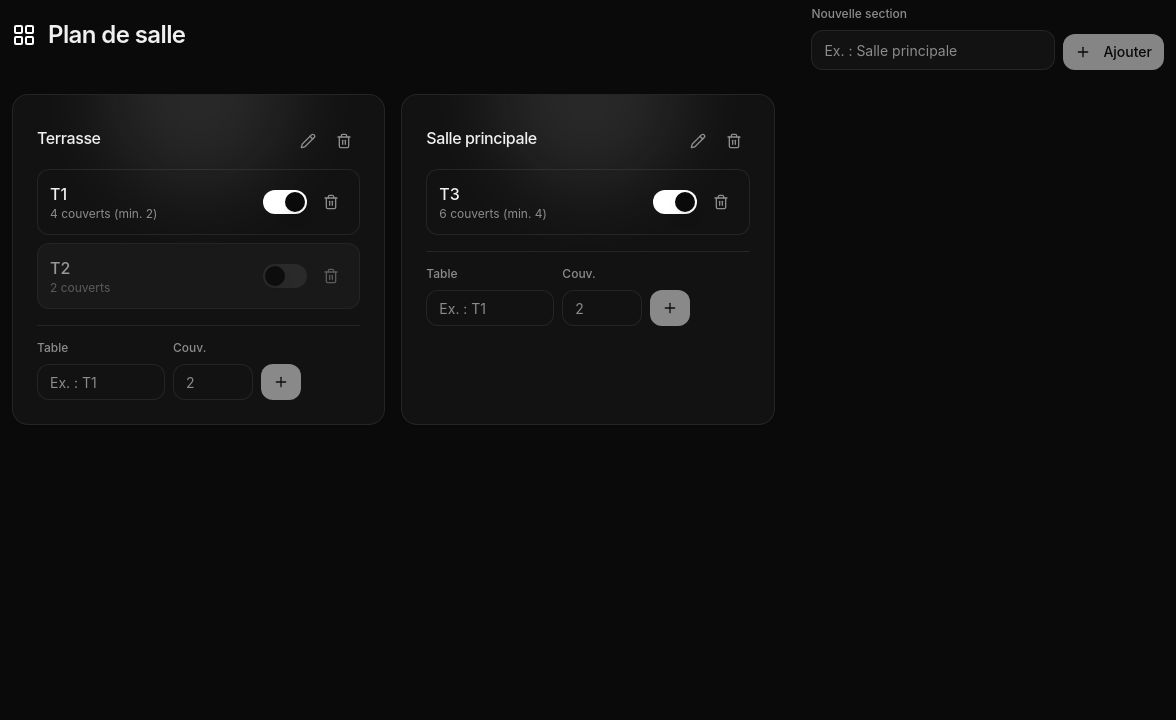
FloorPlanCrud › affiche une erreur si la création de section échoue
The image size is (1176, 720).
Check: the heading "Plan de salle" is shown, box [48, 19, 185, 51]
Type "Nouveau" into the field labelled "Nouvelle section" at (933, 50), box [811, 30, 1055, 70]
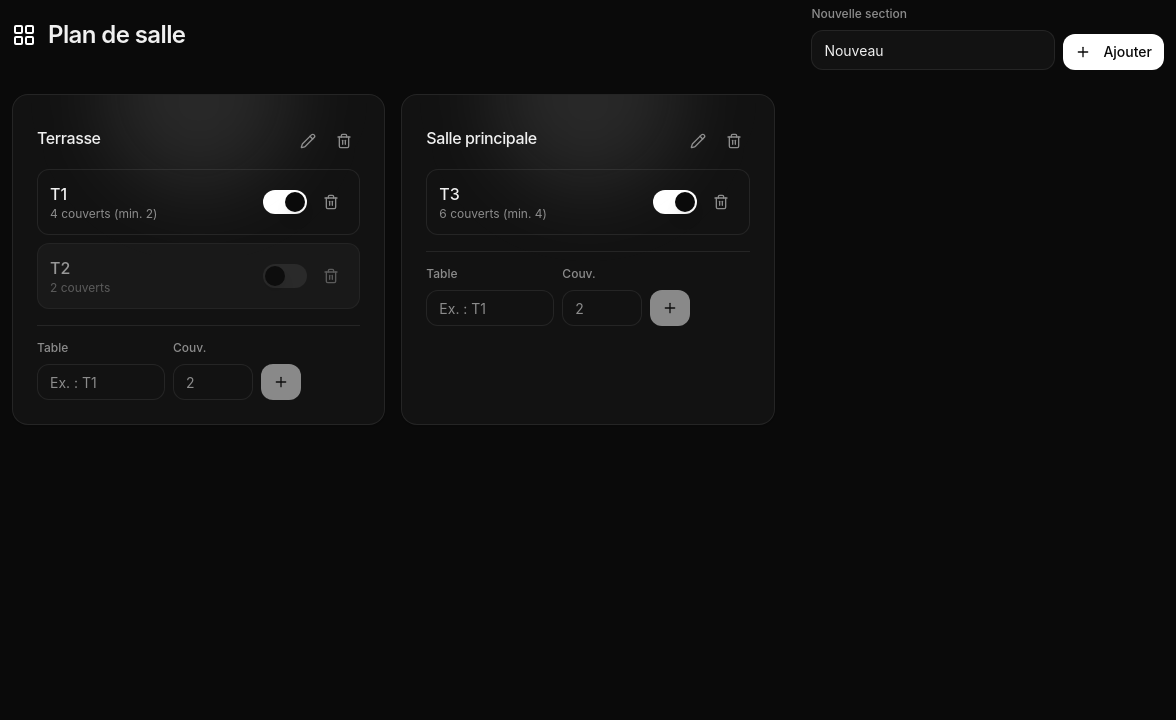
Click the button "Ajouter" at (1114, 52), box [1063, 34, 1164, 70]
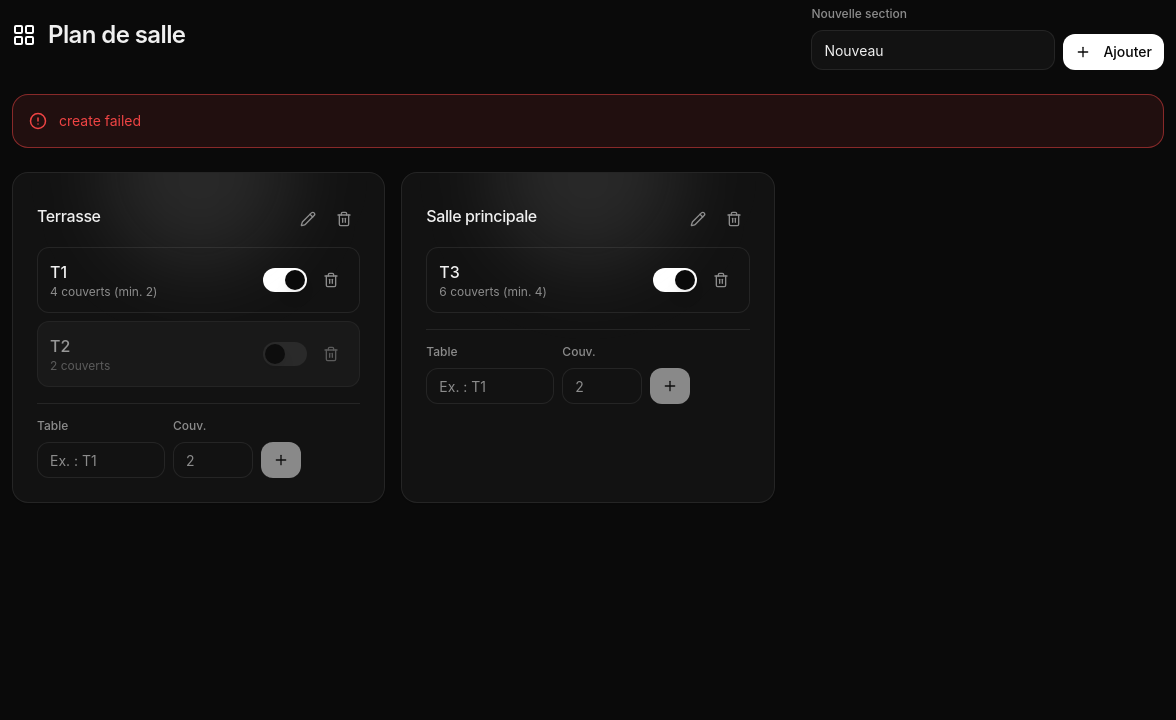
Check: the text "create failed" is shown, box [12, 94, 1164, 148]
